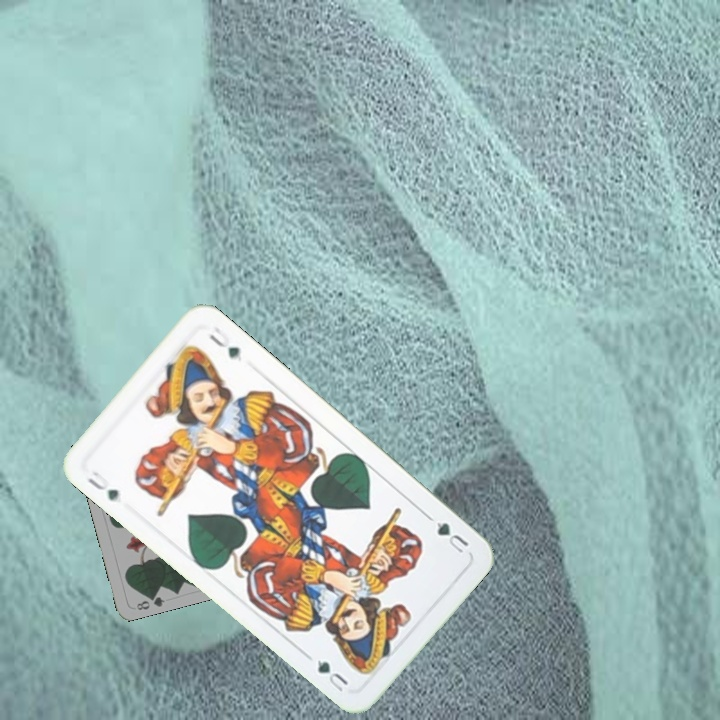G8: (132, 589, 167, 613)
GU: (432, 517, 472, 556), (83, 466, 122, 504)
